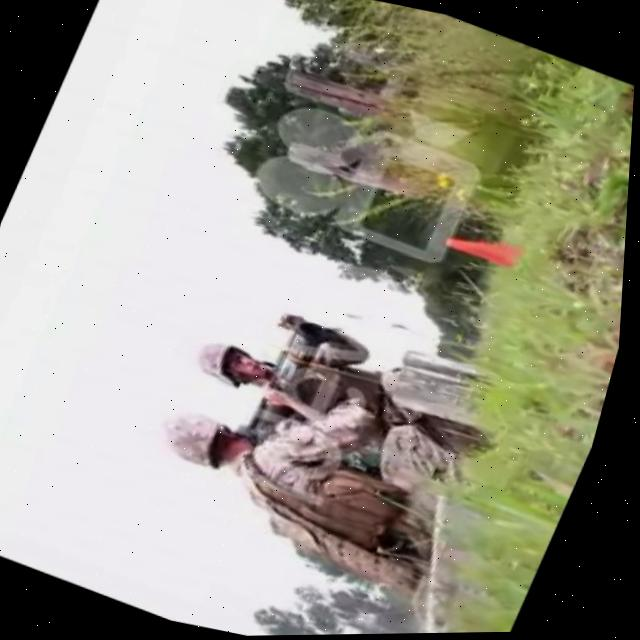rocket: (248, 307, 350, 433)
